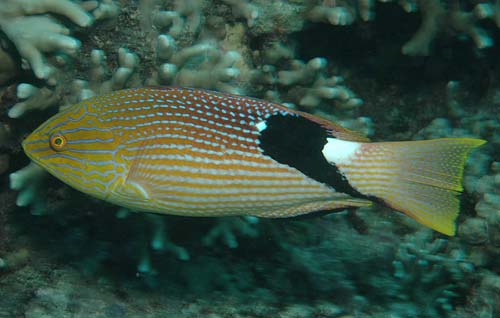fish: (20, 85, 488, 238)
